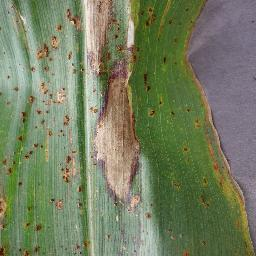Corn_Blight: (77, 1, 156, 236), (184, 17, 252, 214), (19, 6, 73, 211), (1, 7, 18, 215), (0, 218, 48, 256), (63, 241, 146, 256), (159, 2, 178, 44), (238, 214, 253, 256), (159, 96, 178, 121), (159, 52, 176, 68), (199, 234, 214, 248), (167, 234, 175, 249), (183, 244, 192, 256)
